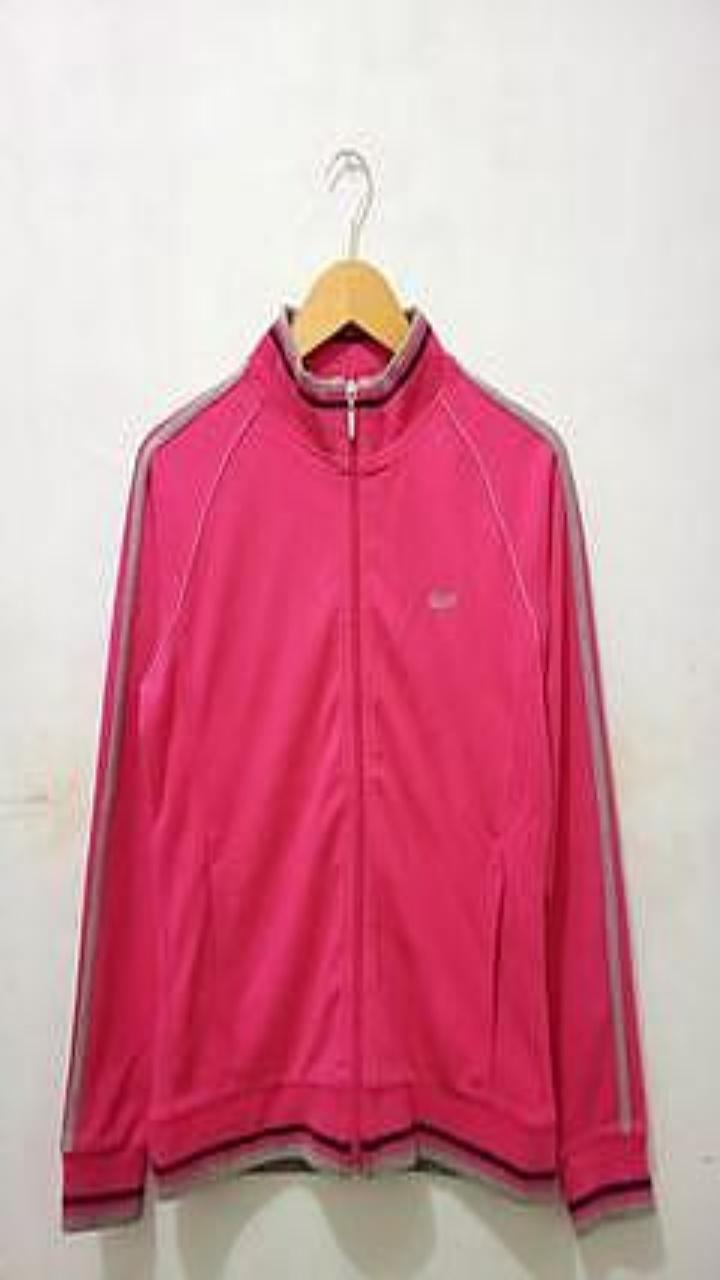Sports_Jacket: (62, 304, 654, 1230)
